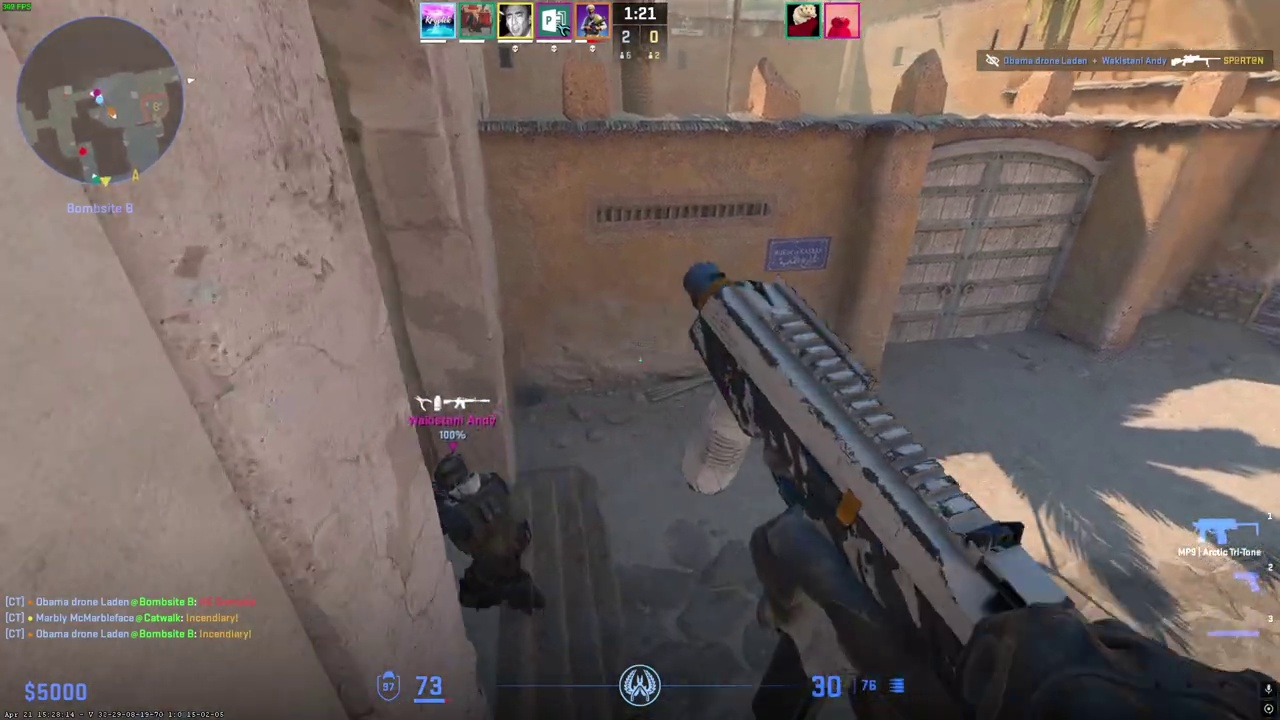CT: (433, 450, 536, 623)
